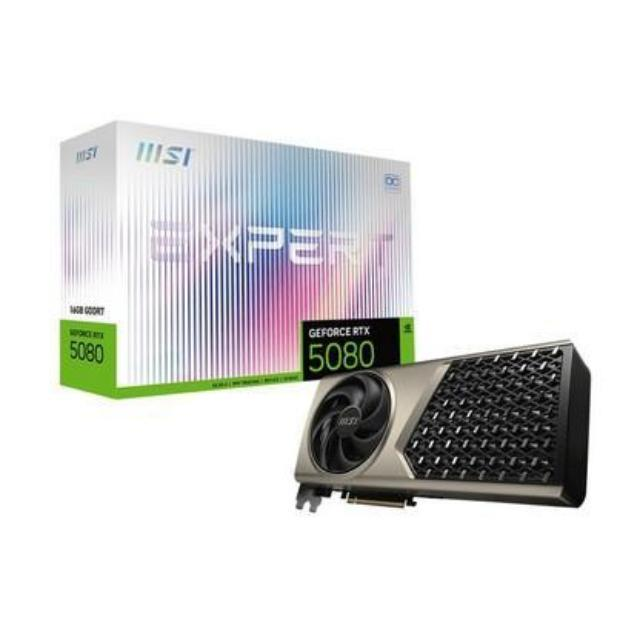GPU: (287, 337, 590, 523)
